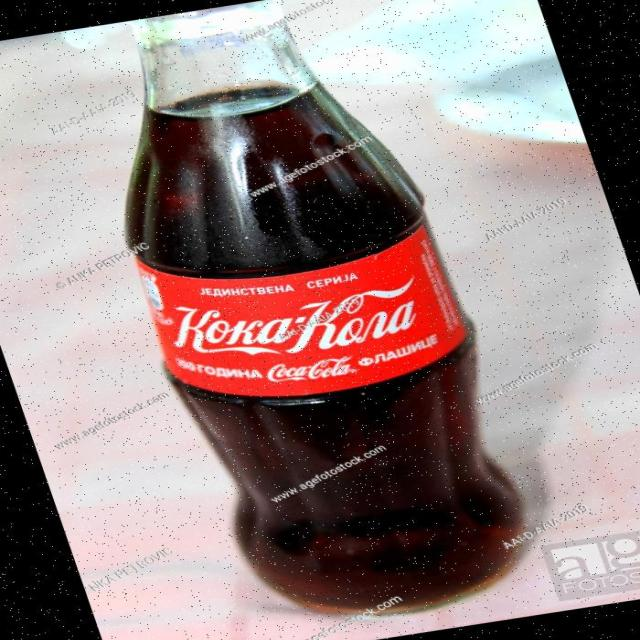coca-cola: (48, 0, 567, 636)
